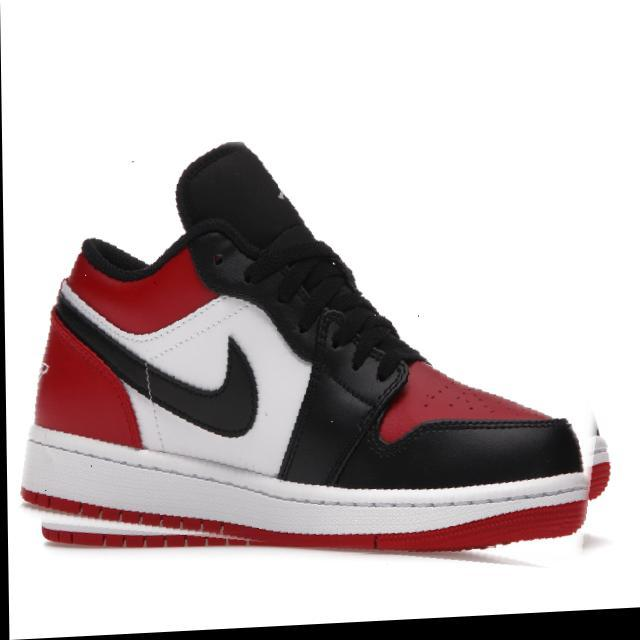J1_InsoleChar: (19, 139, 612, 555)
J1_StitchPattern: (19, 423, 607, 551), (174, 139, 426, 381), (54, 277, 262, 437), (241, 225, 425, 381), (20, 486, 254, 548), (322, 357, 411, 486), (310, 299, 423, 383), (39, 521, 254, 549), (408, 414, 571, 440)
